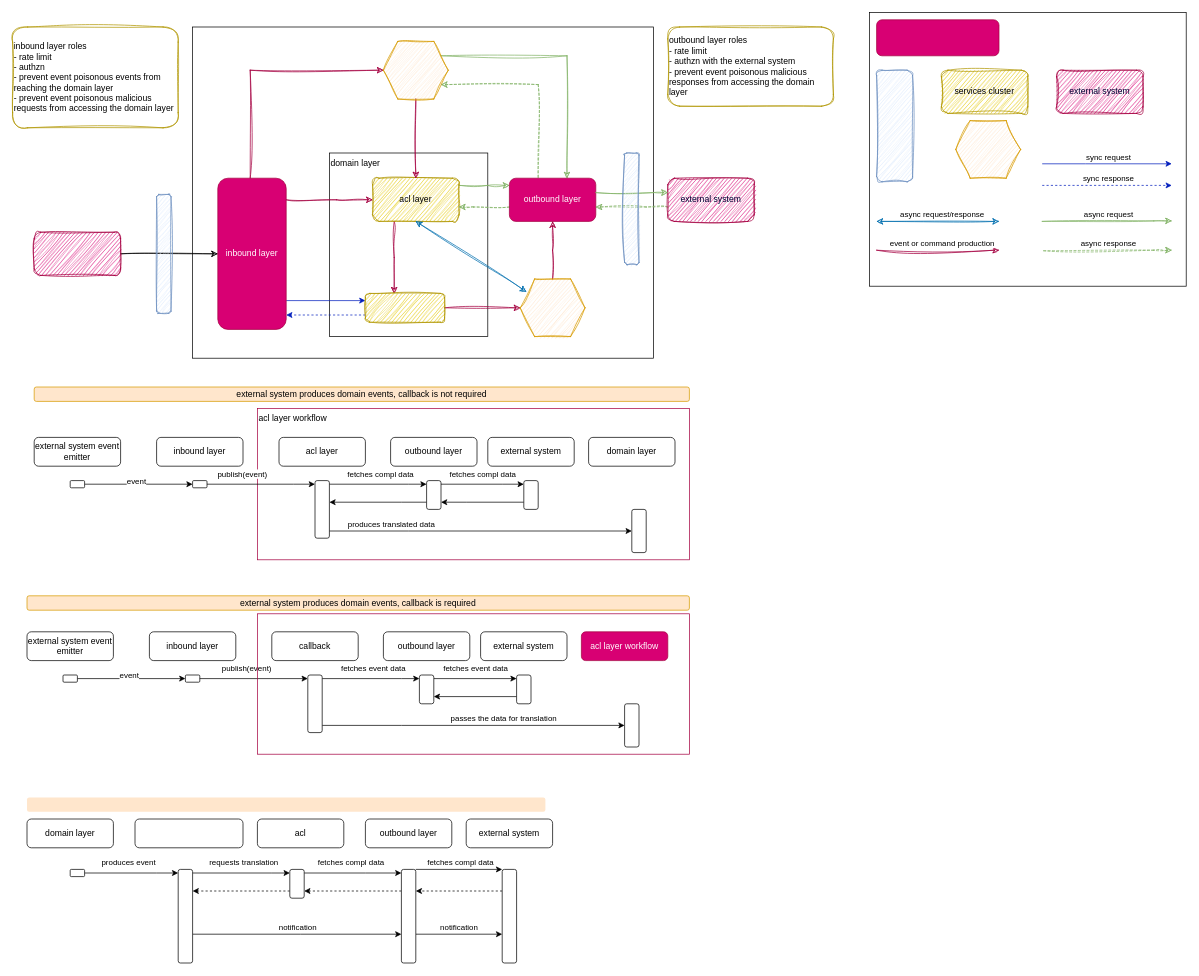
Image size: 1199x976. Some labels were removed from this diagram. The shapes that lost their labels are listed below. From the top down, each one's box as (x1, y1, x2, y2) in pixels, then its label:
(876, 19, 999, 56): architecture boundary
(383, 41, 448, 99): callback service
(876, 69, 913, 182): circuit breaker
(955, 120, 1021, 178): single service
(192, 26, 653, 358): AWS Account or internal network
(33, 231, 121, 275): external event emitter
(365, 293, 445, 322): domain services
(519, 278, 585, 337): external event producer service
(257, 613, 689, 754): callback workflow
(27, 797, 545, 811): domain layer produces events that external systems must listen
(134, 818, 243, 848): external notification layer
